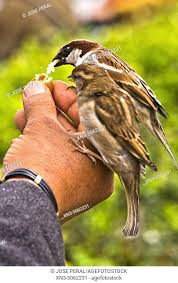hsparrow: (62, 64, 154, 240), (48, 36, 178, 160)
